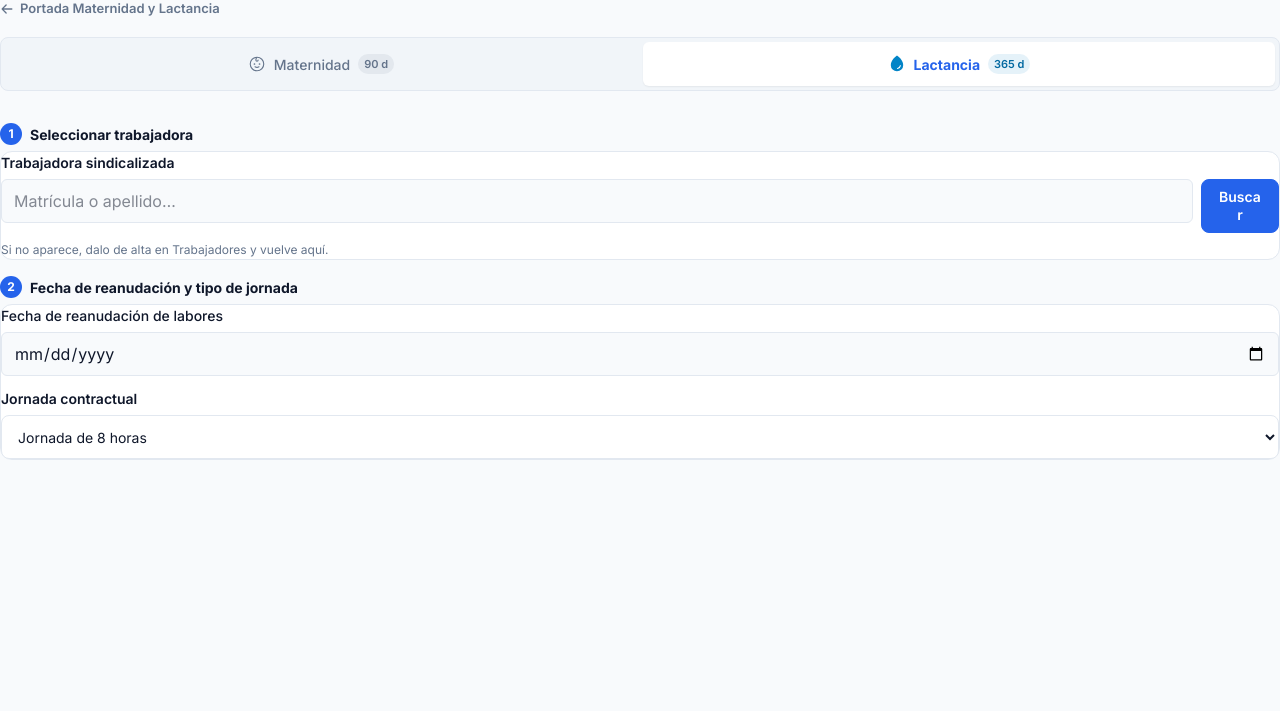
Test: LactationTool › cambiar jornada a 6.5h muestra tarjeta con badge 'Requiere acuerdo'
The width and height of the screenshot is (1280, 711).
Type "2026-07-01" into the date field labelled "Fecha de reanudación de labores" at [640, 354], box [1,332,1279,376]
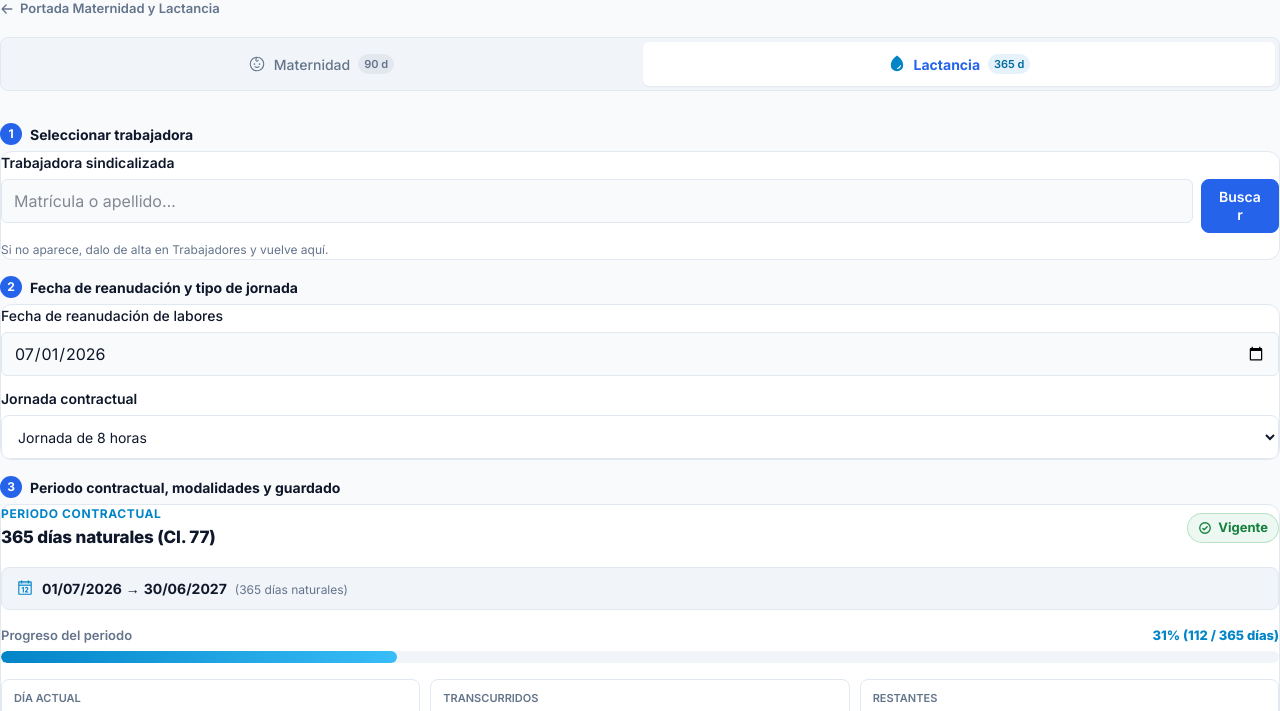
Select "Jornada de 6.5 horas o menos" in the dropdown labelled "Jornada contractual" at [640, 437], box [1,415,1279,459]
(page scrolled)
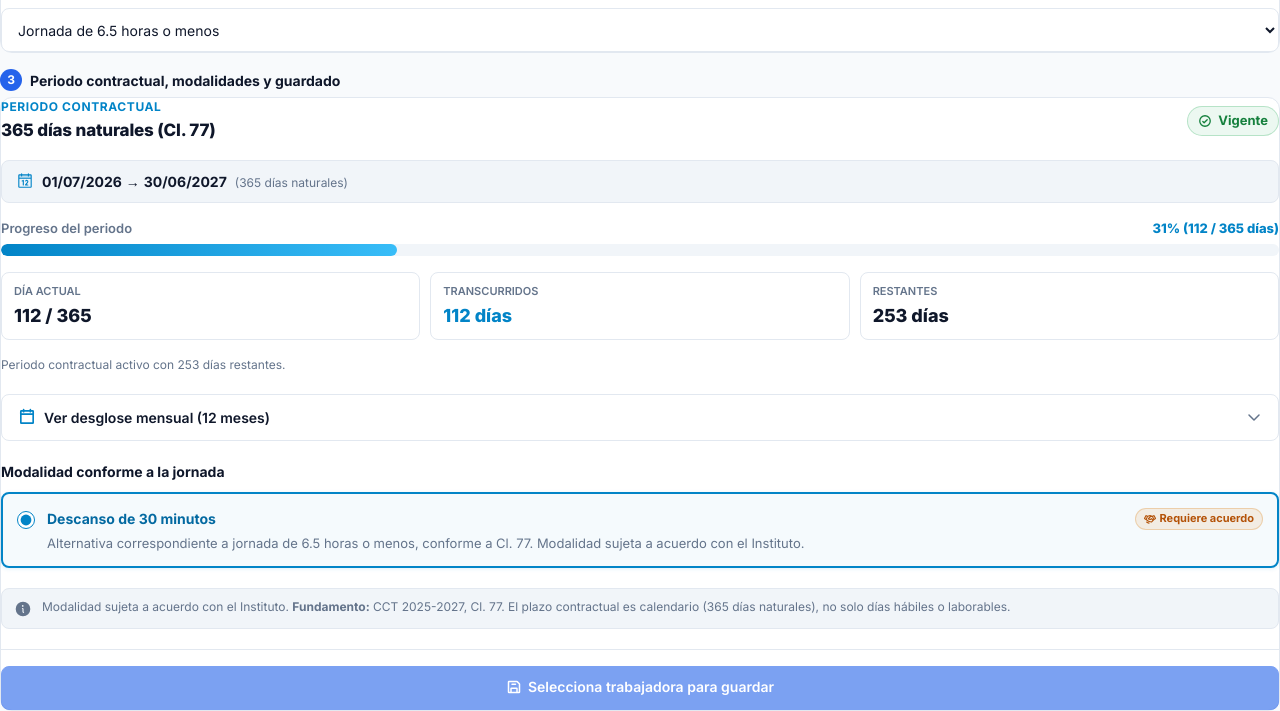
Check: the text "Descanso de 30 minutos" is shown, box [47,508,216,529]
Check: the text "Requiere acuerdo" is shown, box [1160,510,1254,527]
